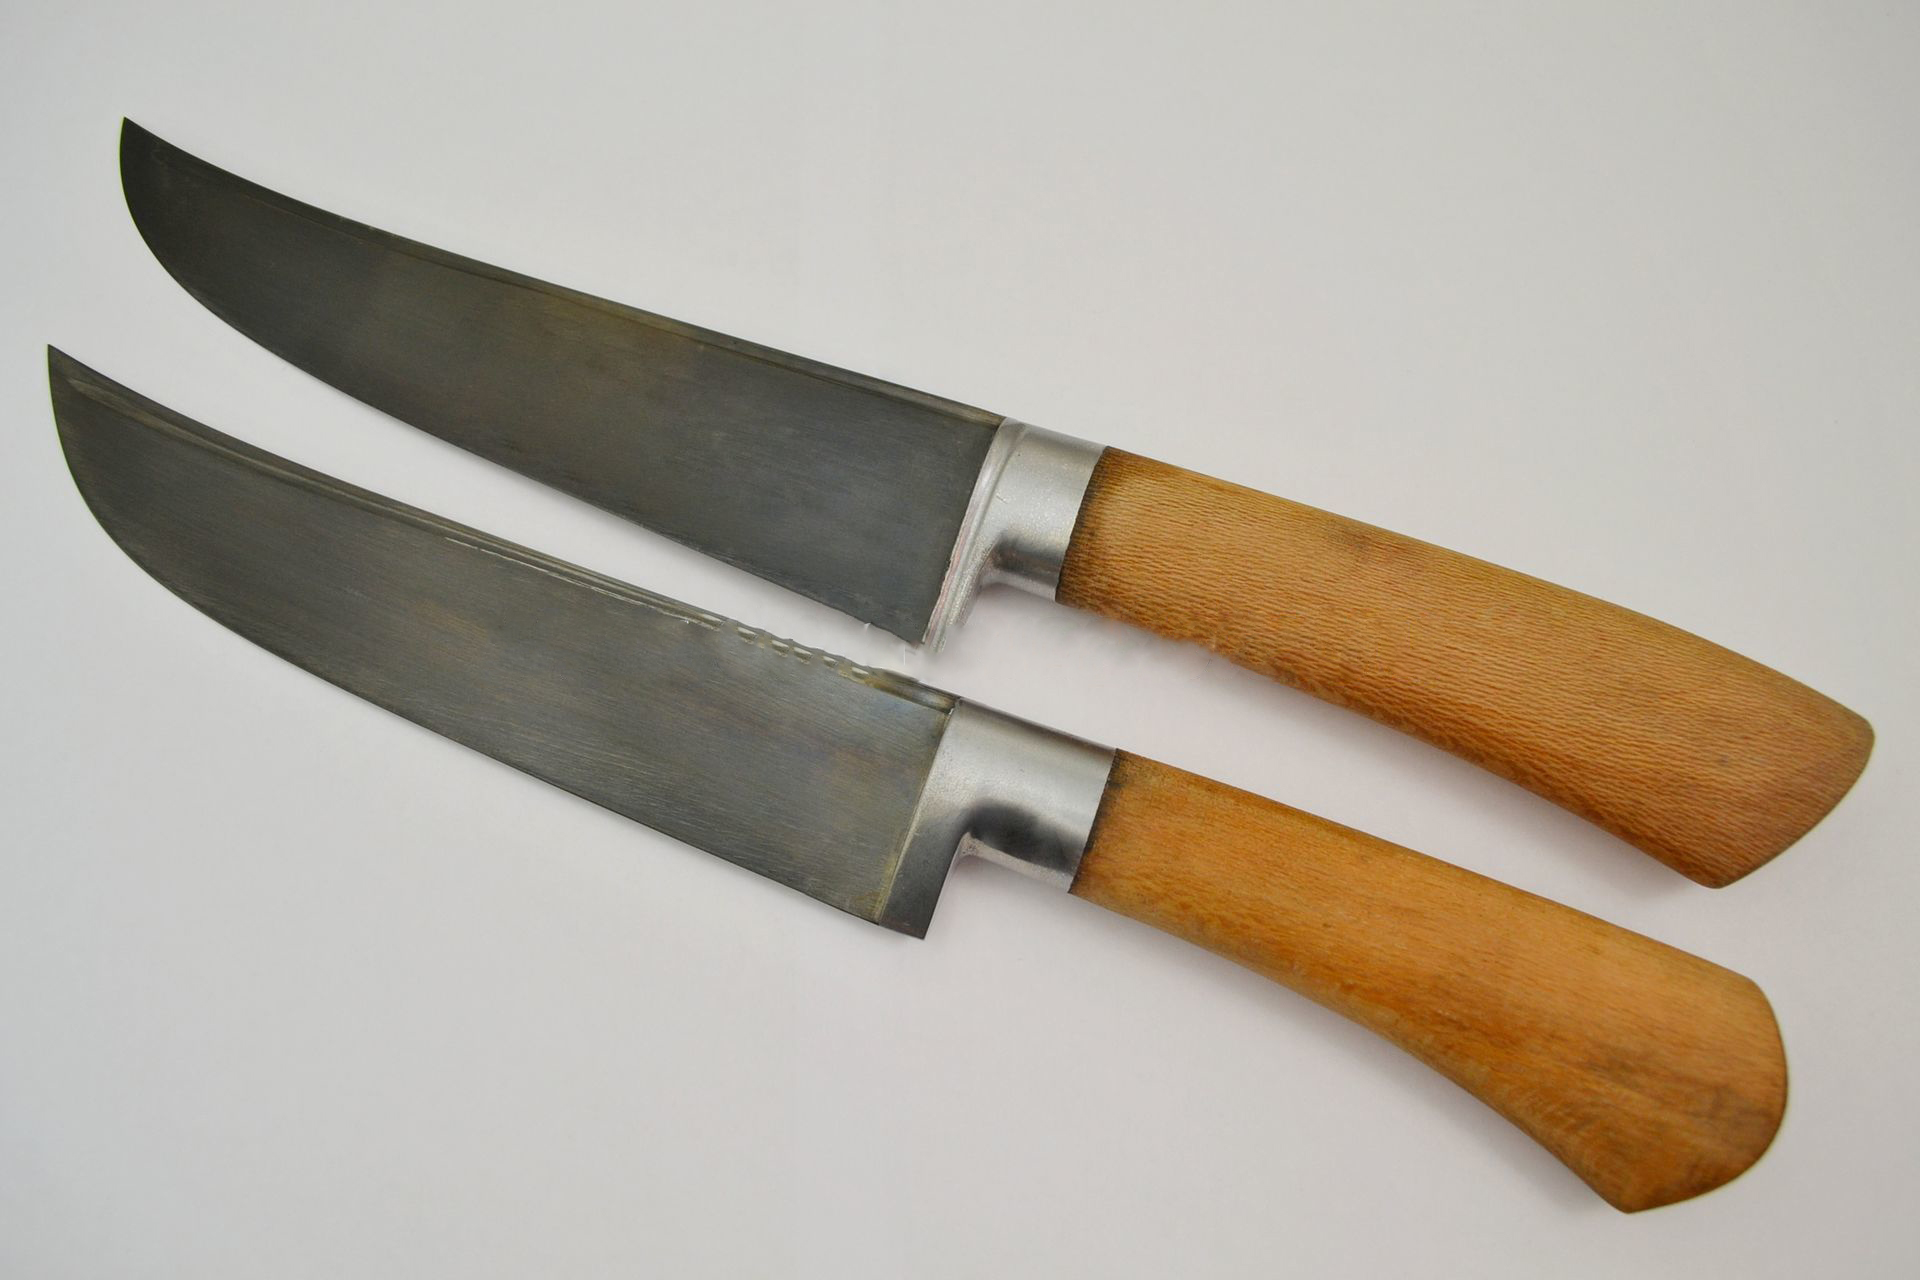knife: (37, 341, 1796, 1214), (117, 111, 1881, 891)
